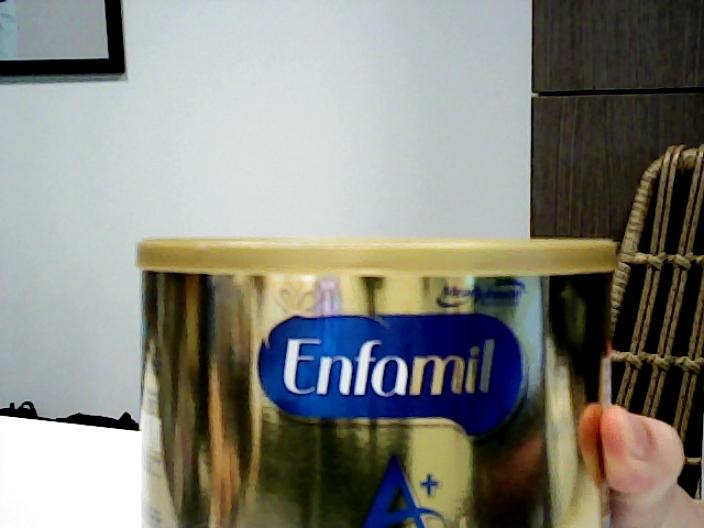Babymilk-powder-_800-899g_NonHalal_NonHealthy: (135, 234, 618, 528)
